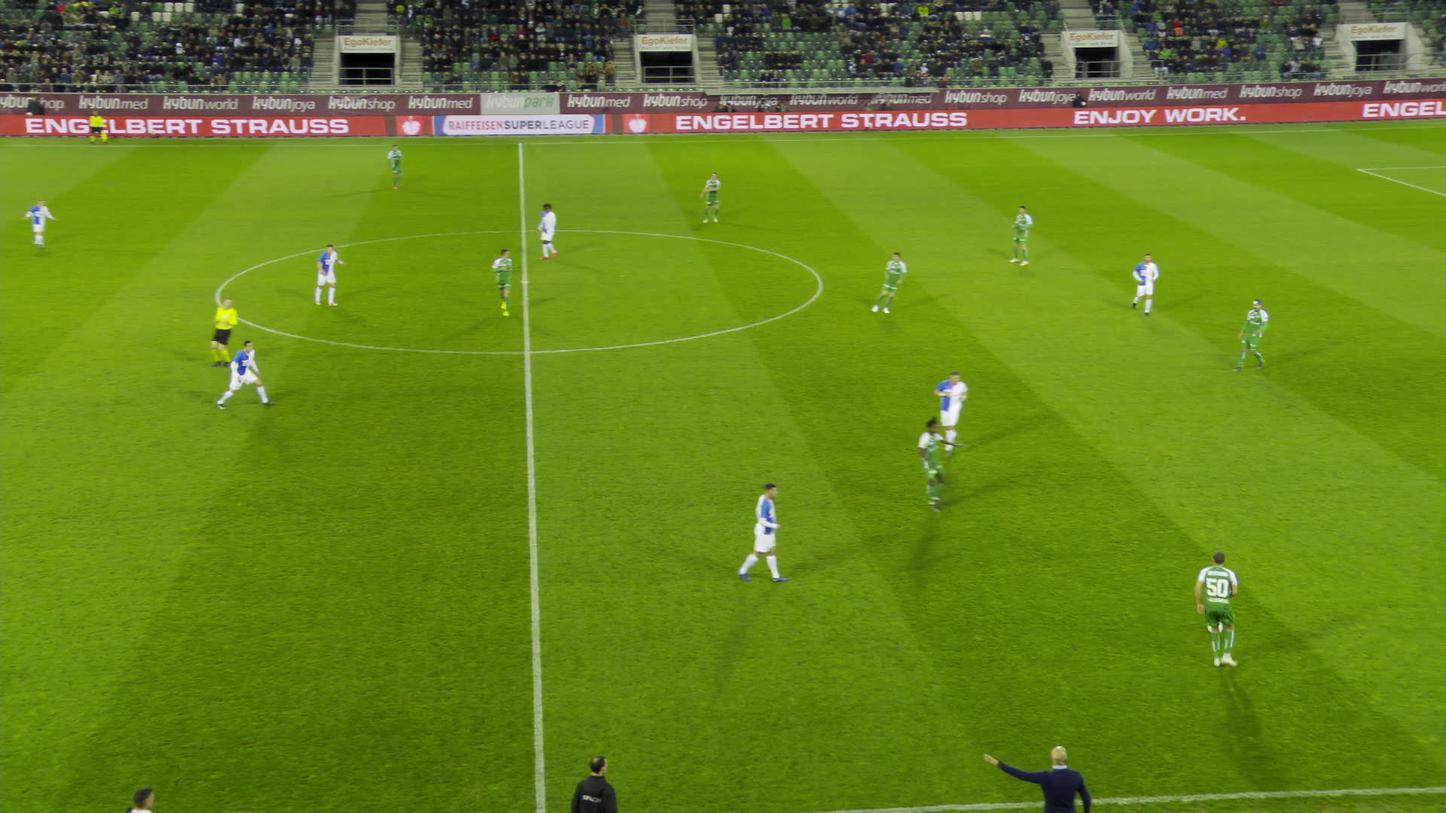ball: (1207, 615, 1218, 630)
player: (1194, 556, 1240, 672), (920, 419, 971, 511), (747, 482, 790, 584), (222, 335, 272, 410), (1233, 298, 1272, 373), (940, 372, 975, 452), (881, 250, 911, 315), (317, 243, 347, 306), (1134, 251, 1161, 315), (1012, 205, 1037, 266), (538, 203, 564, 260), (495, 251, 517, 315), (29, 199, 58, 246), (704, 172, 724, 224), (391, 145, 407, 188)
referee: (212, 297, 246, 370), (88, 111, 109, 144)
